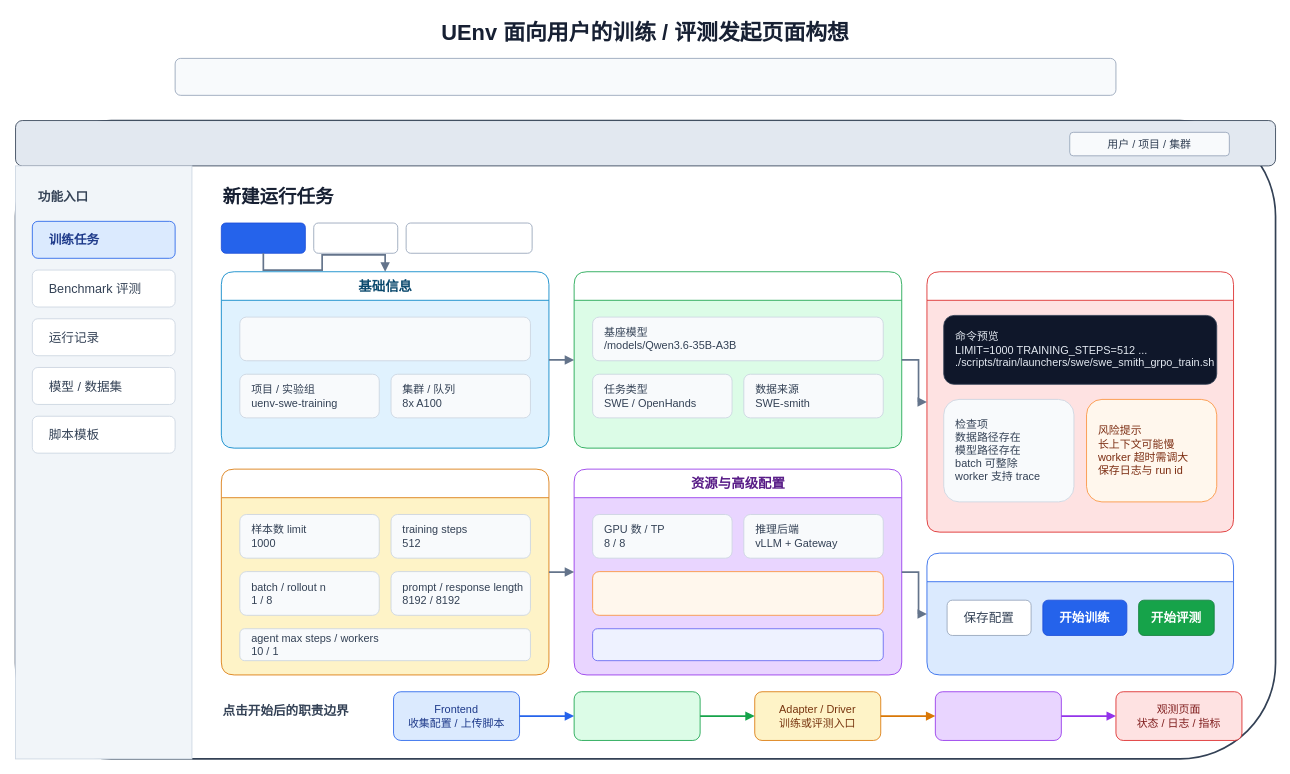
This 1290x774 diagram has some shape labels left out. Here are the shapes that lost their labels. From the top down, the box of each, then its label:
(174, 58, 1116, 95): 用户在前端选择模型、任务、数据与训练参数，或上传脚本配置；点击开始后由 Server 侧承接调度、状态流转与观测。
(15, 120, 1276, 166): UEnv Console
(220, 222, 305, 253): RL 训练
(313, 222, 398, 253): 仅评测
(405, 222, 532, 253): 上传脚本 / YAML
(239, 316, 530, 361): 任务名称 Qwen3.6-35B-A3B SWE-smith GRPO
(573, 271, 902, 448): 模型与任务
(926, 271, 1234, 532): 启动前预览与检查
(220, 468, 549, 675): 训练参数
(592, 571, 883, 615): 必需 trace response_ids / mask / logprobs
(926, 552, 1234, 675): 运行操作
(592, 628, 883, 661): 可选：上传 shell / YAML 系统解析参数并生成预览
(573, 691, 700, 740): Server API 创建 run / 校验 / 调度
(934, 691, 1061, 740): Worker / Env 执行 rollout / reward
